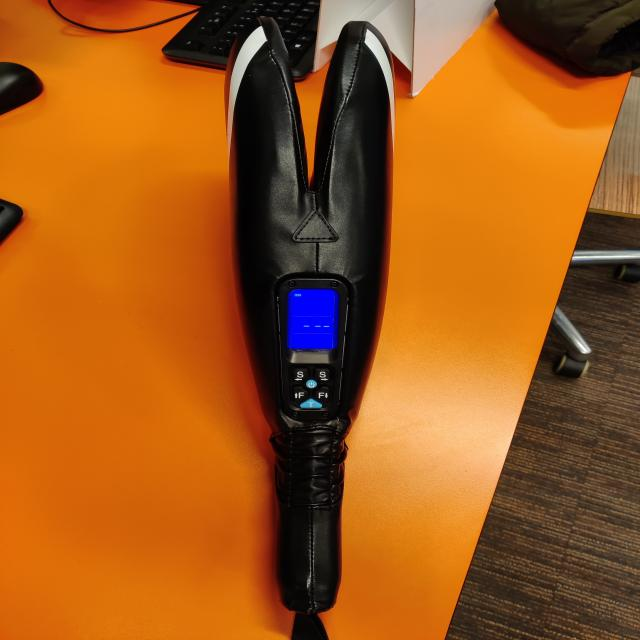paddle: (221, 14, 403, 614)
